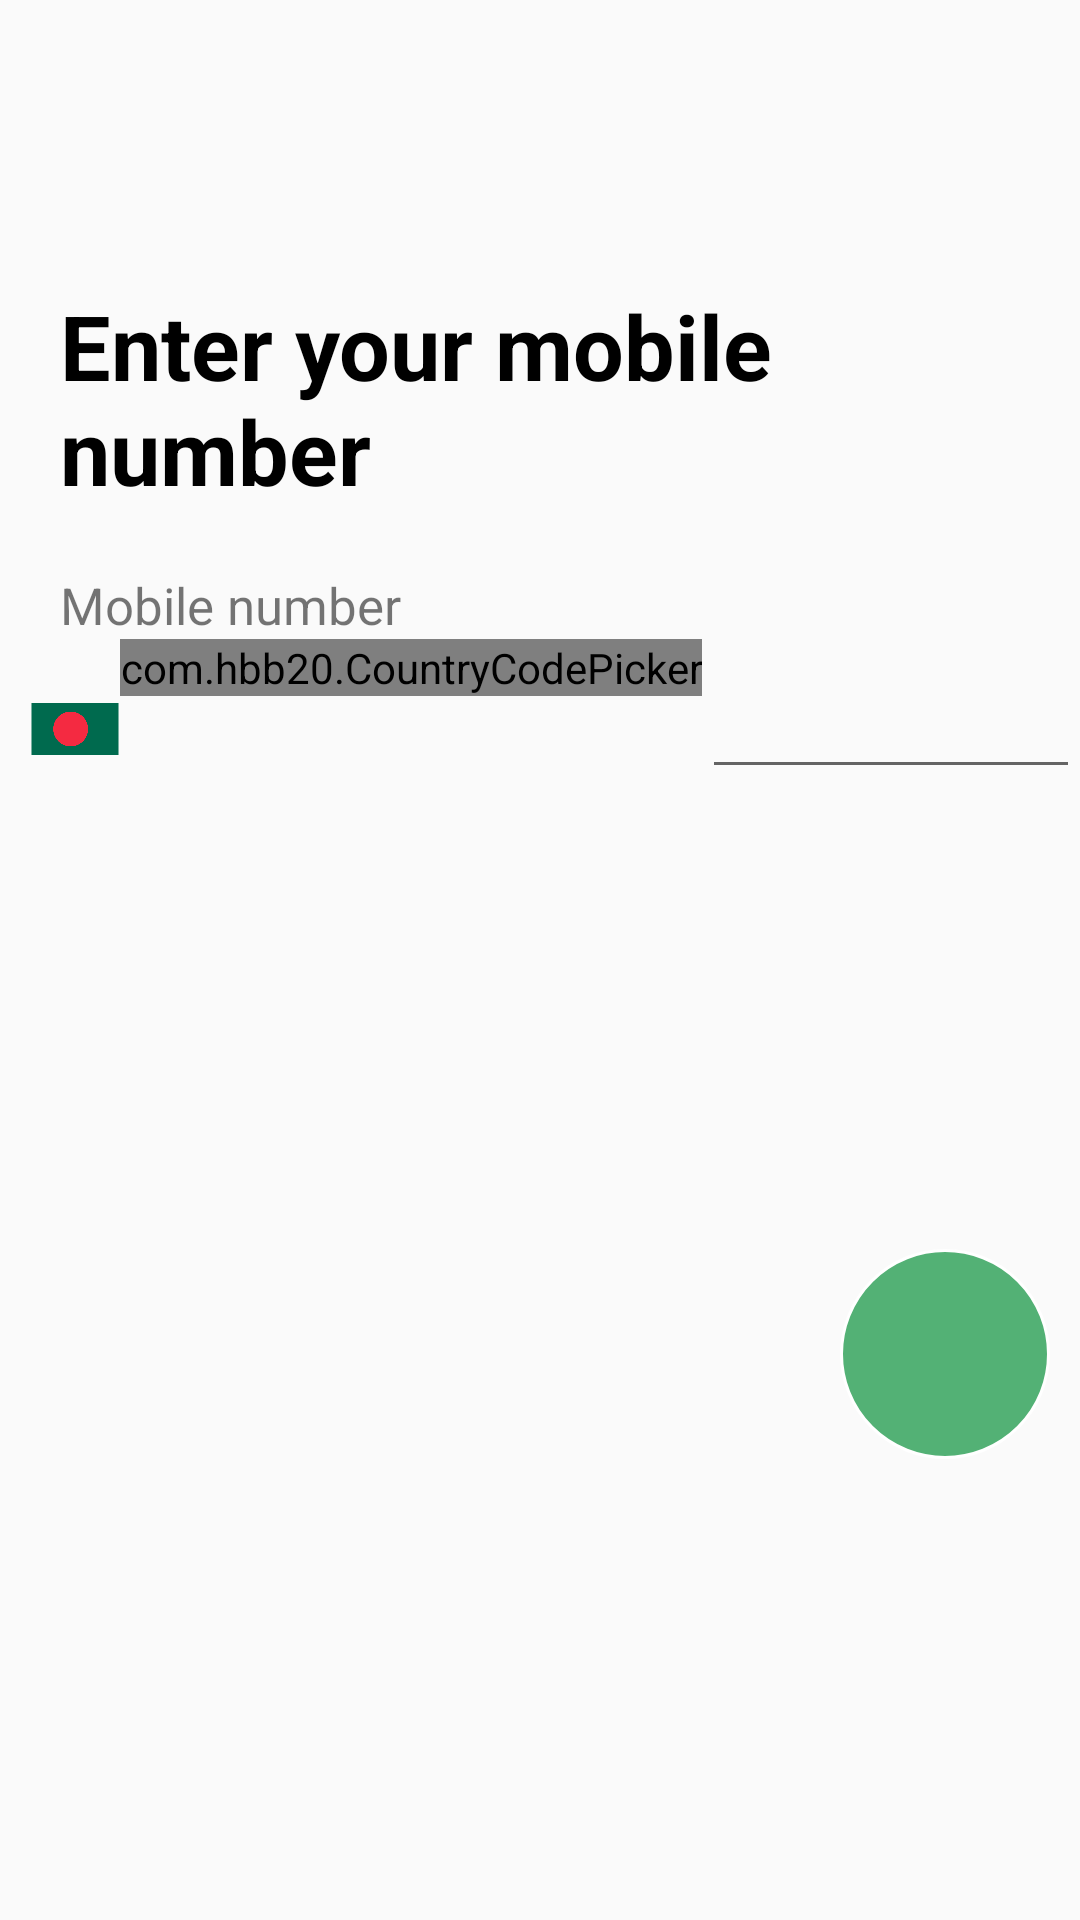

Screen size 1080px x 1920px. Icon name, then its center in pixels as (x,y):
iconnuoc: (75,729)
